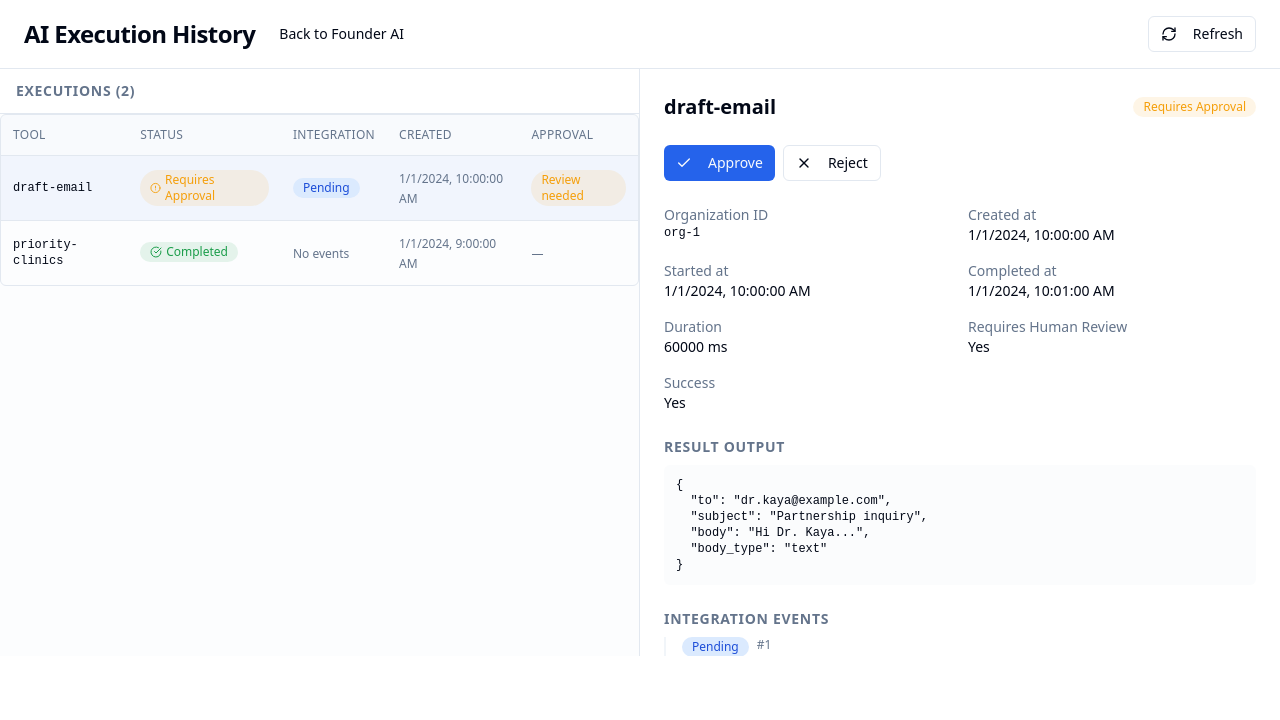
AIExecutionsPage › post-action refresh updates UI
Expected: the text "Requires Approval" is shown 2 times, [140,170,269,206]; [1133,97,1256,117]
Click the button "Approve" at [719, 163], box [664,145,775,181]
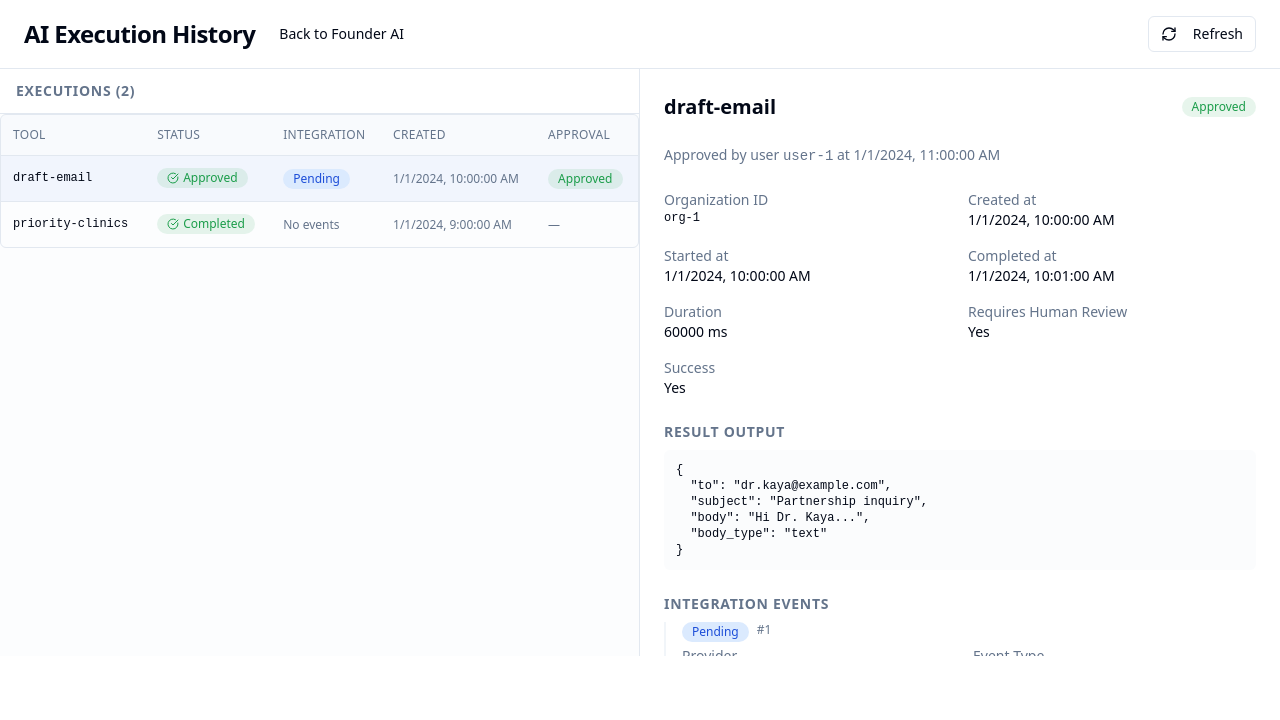
Result: the text "Requires Approval" is not shown
